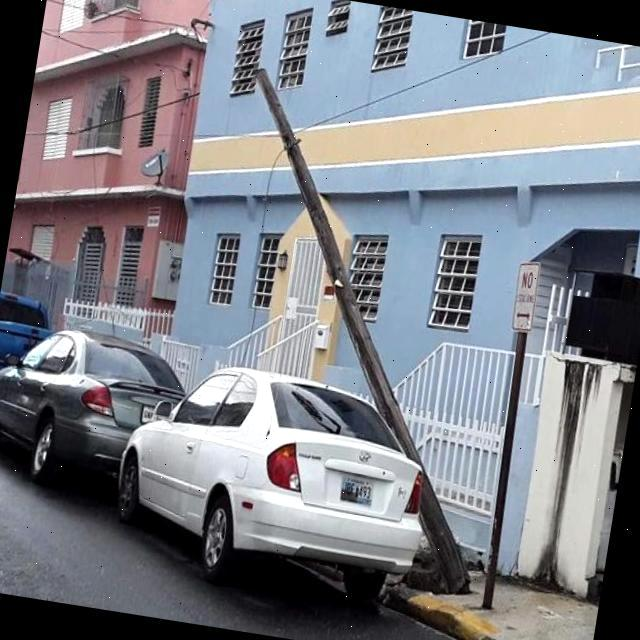Broken Pole: (251, 63, 471, 591)
